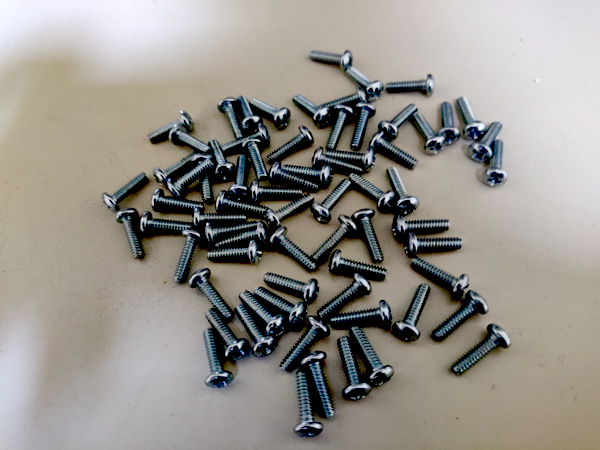shortscrew: (451, 323, 512, 377), (432, 291, 490, 343), (280, 317, 331, 374), (350, 325, 394, 386), (409, 258, 471, 299), (318, 273, 372, 319), (312, 214, 359, 265), (205, 309, 250, 362), (300, 351, 335, 419), (238, 290, 287, 338), (189, 268, 234, 320), (393, 284, 432, 342), (268, 227, 318, 271), (236, 304, 277, 357), (254, 286, 308, 326), (338, 336, 371, 401), (311, 178, 354, 224), (294, 371, 323, 439), (329, 250, 389, 282), (102, 172, 149, 212), (369, 132, 419, 169), (263, 273, 320, 305), (167, 161, 214, 199), (173, 230, 205, 285), (352, 209, 384, 264), (265, 195, 315, 230), (204, 330, 233, 390), (266, 126, 314, 162), (331, 301, 393, 328), (386, 167, 420, 216), (404, 231, 463, 258), (312, 146, 366, 175), (148, 111, 194, 145), (378, 103, 418, 142), (154, 153, 201, 186), (215, 222, 269, 250), (116, 208, 145, 260), (219, 124, 271, 153), (393, 214, 450, 239), (326, 103, 355, 152), (414, 112, 446, 156), (204, 221, 260, 246), (469, 122, 503, 163), (208, 240, 263, 265), (292, 94, 332, 128), (141, 211, 193, 237), (216, 191, 268, 217), (345, 67, 384, 101), (482, 140, 509, 189), (457, 97, 487, 141), (350, 103, 377, 151), (250, 99, 291, 130), (251, 179, 303, 203), (325, 148, 377, 172), (242, 139, 270, 183), (170, 126, 213, 154), (191, 154, 215, 203), (210, 137, 236, 182), (192, 208, 247, 229), (386, 74, 435, 97), (228, 156, 251, 203), (218, 98, 244, 138), (322, 87, 367, 110), (238, 96, 264, 134), (438, 101, 460, 145), (309, 50, 353, 69)
